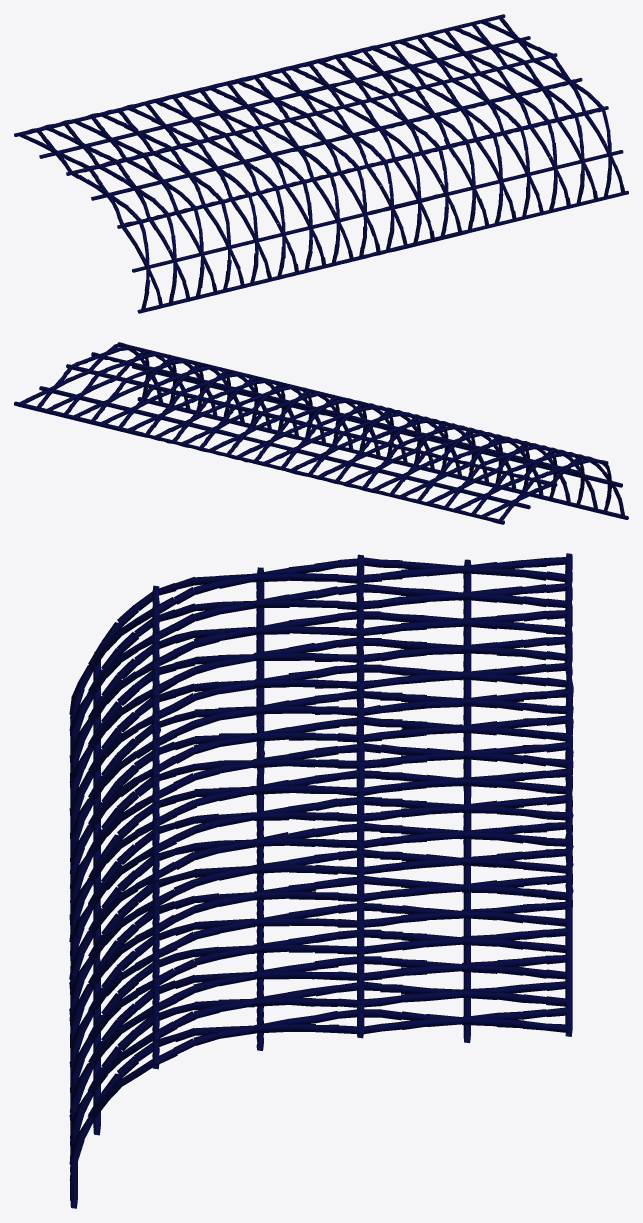
Rendered from Al_Nasar_Football_Stadium_Vert_001.FBX.
The picture shows the model from 3 angles, top to bottom: view 1: azimuth 30°, elevation 25°; view 2: azimuth 150°, elevation 25°; view 3: azimuth 270°, elevation 25°; orthographic projection. The views are drawn at different scales.
Parts seen in each view (by area): view 1: Al_Nasar_Football_Stadium_Vert_001; view 2: Al_Nasar_Football_Stadium_Vert_001; view 3: Al_Nasar_Football_Stadium_Vert_001.
Boxes of the visible parts, x1,y1,x2,y2 form: Al_Nasar_Football_Stadium_Vert_001: (14, 14, 628, 313); Al_Nasar_Football_Stadium_Vert_001: (14, 342, 628, 524); Al_Nasar_Football_Stadium_Vert_001: (69, 553, 573, 1208).
Size of the model in its own units: 13738 by 6127 by 2404.
